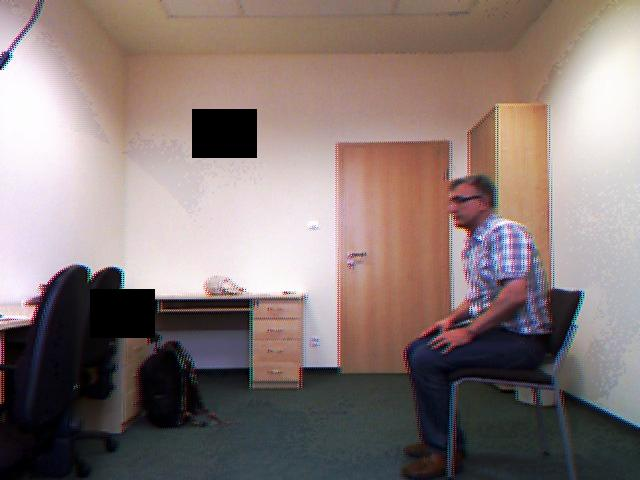sitting: (385, 172, 571, 480)
